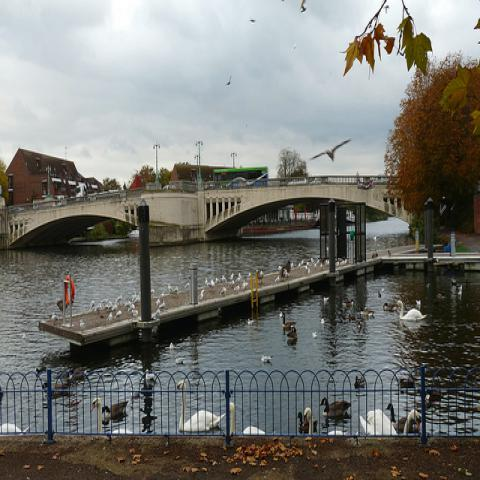bus: (212, 163, 272, 186)
car: (225, 176, 247, 189), (288, 178, 308, 185), (310, 178, 321, 184), (163, 186, 168, 190)
